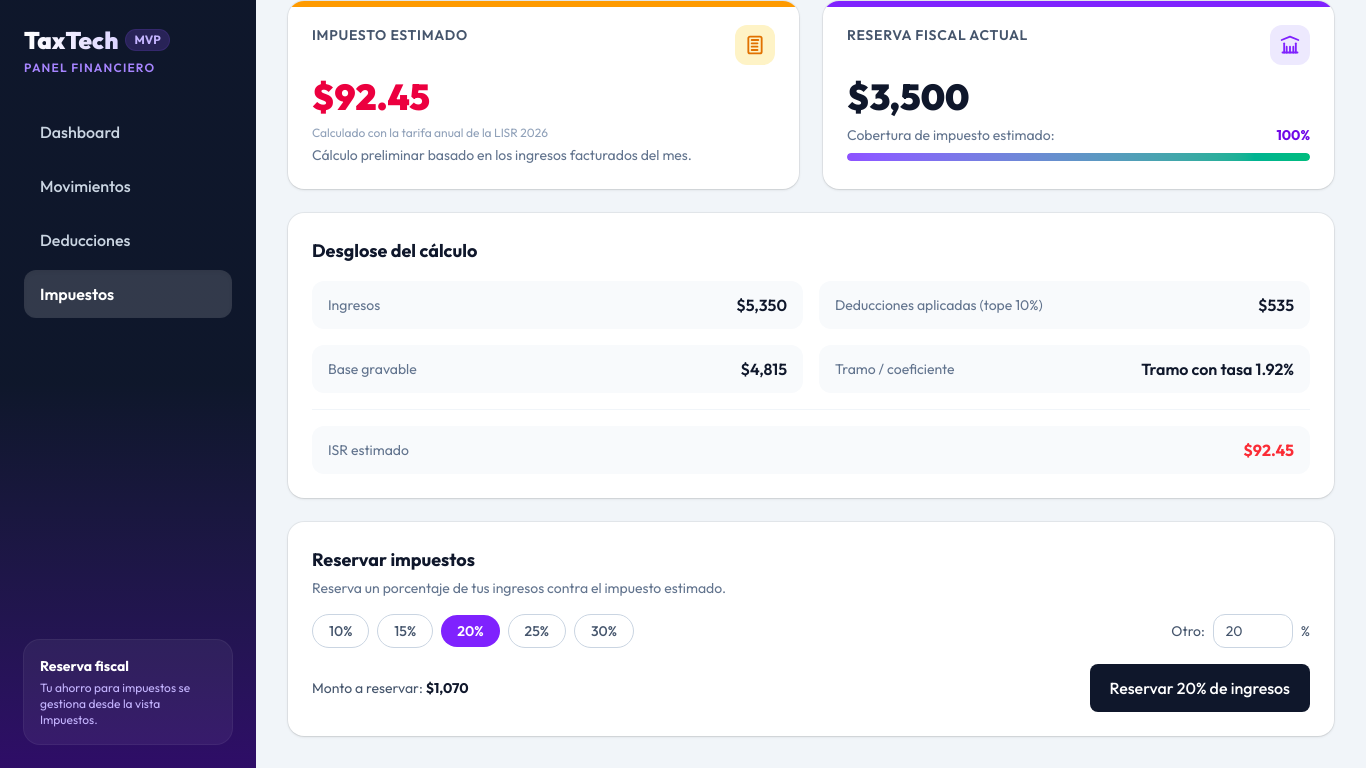
Test: Impuestos › reserva un porcentaje de ingresos y actualiza la reserva fiscal
(page scrolled)
Expected: the text "$3,500" is shown, [847,74,969,119]
Click the button "Reservar 20% de ingresos" at (1200, 688), box [1090,664,1310,712]
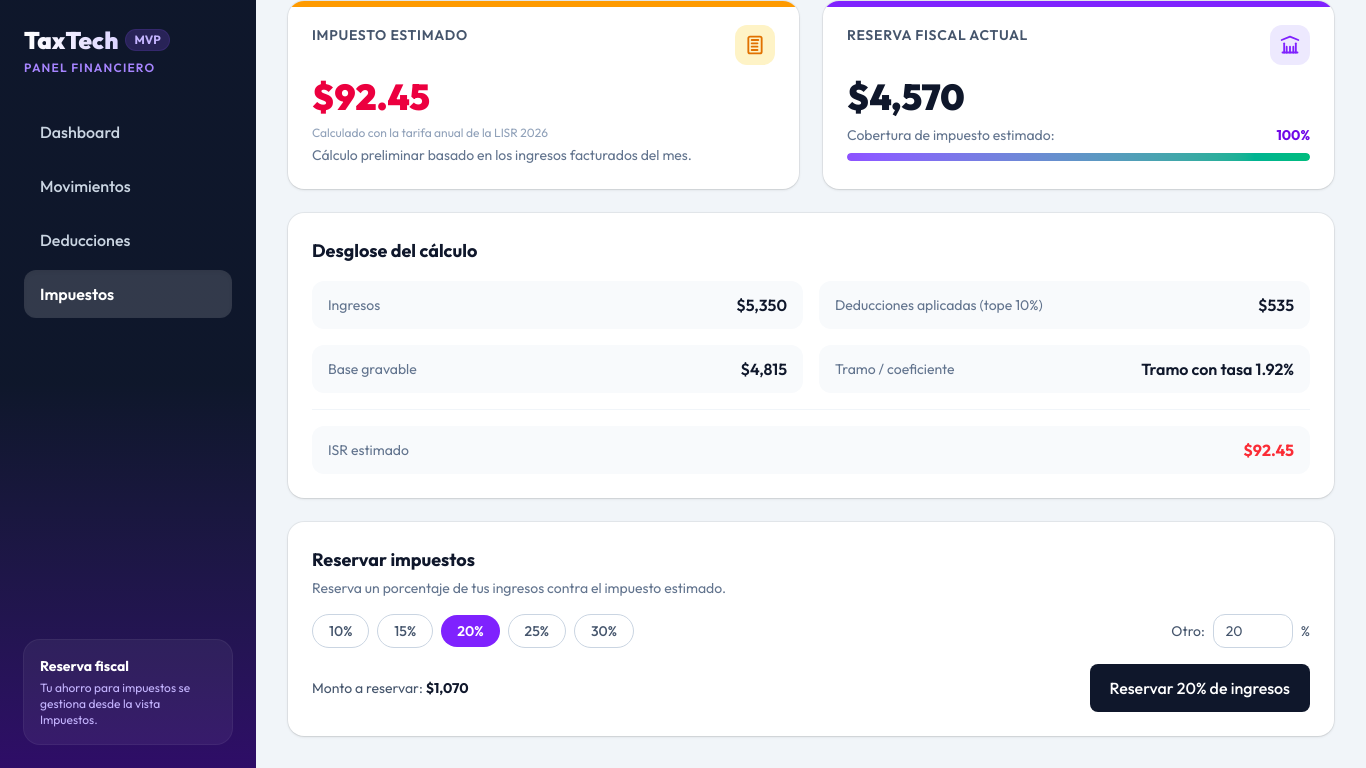
Expected: the text "$3,500" is gone
Expected: the text "$4,570" is shown, [847,74,965,119]
